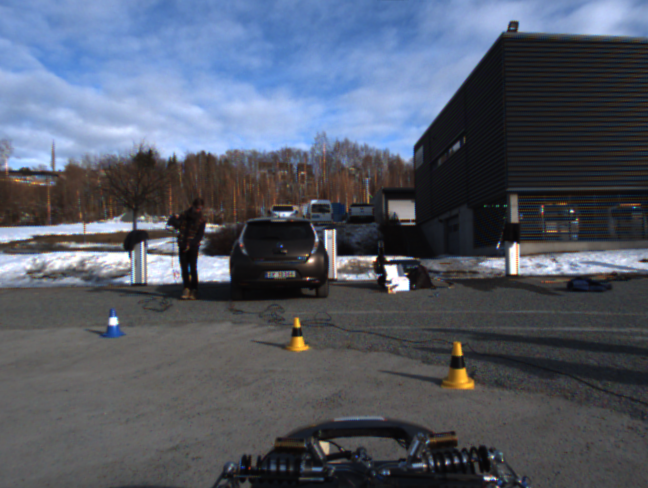cone-small-blue: (100, 308, 125, 338)
cone-small-yellow: (439, 342, 475, 391), (283, 317, 310, 352)
